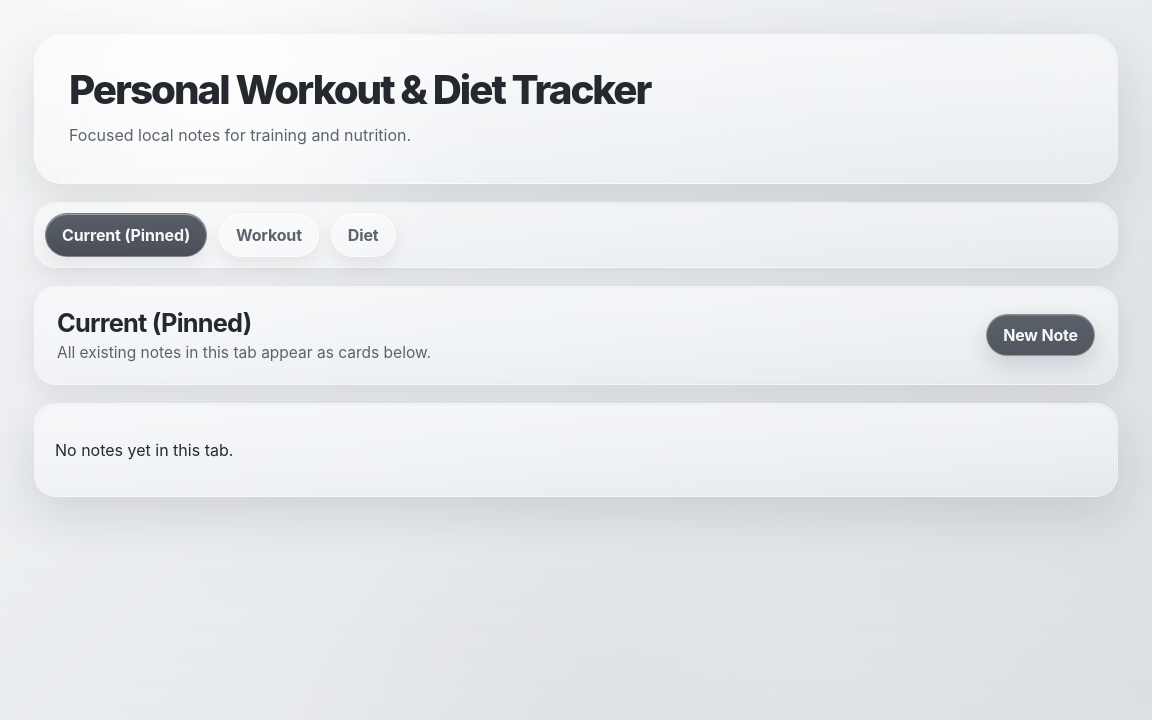
Test case: NotesApp › creates a note and shows success feedback
Click the button "Workout" at {"x": 269, "y": 234}, box [219,212,319,256]
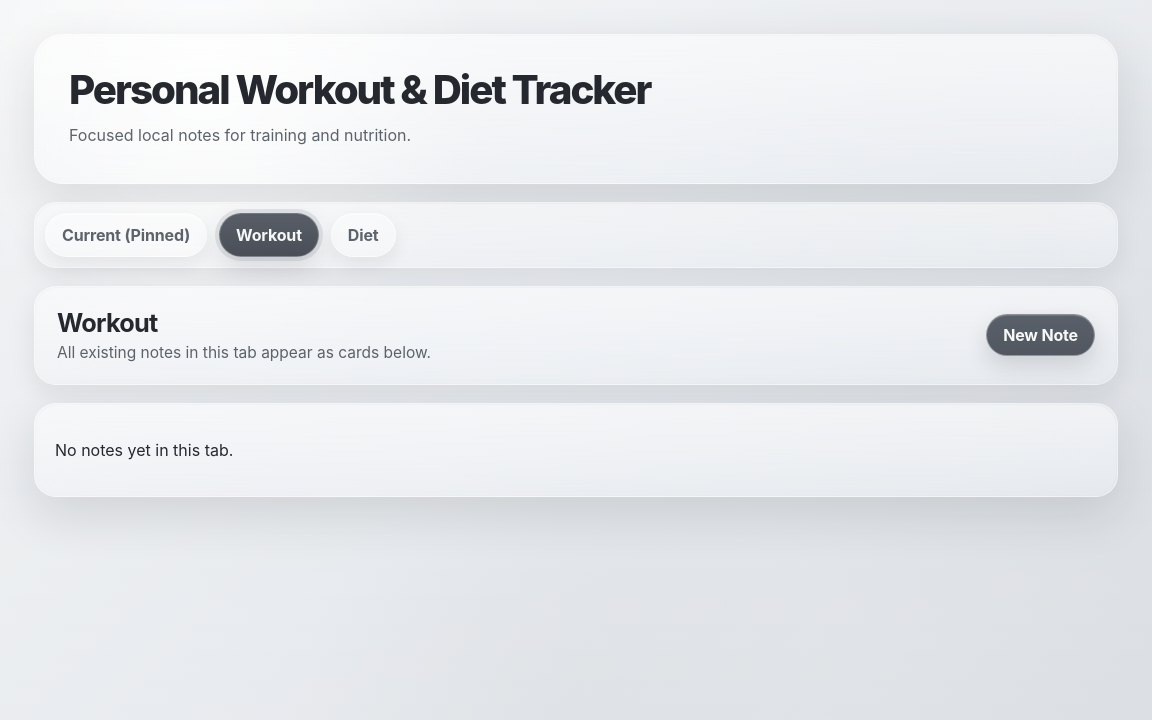
Click the button "New Note" at {"x": 1041, "y": 335}, box [986,314,1095,356]
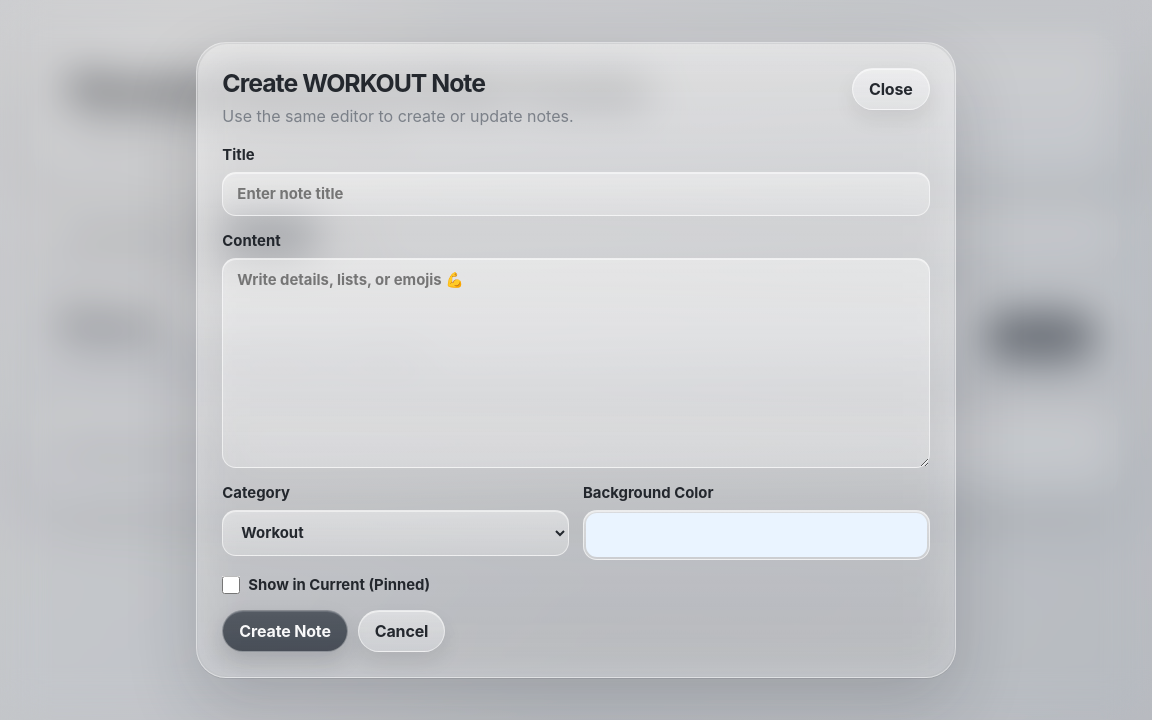
Type "Workout draft" into the field with placeholder "Enter note title" at {"x": 576, "y": 194}, box [222,172,930,216]
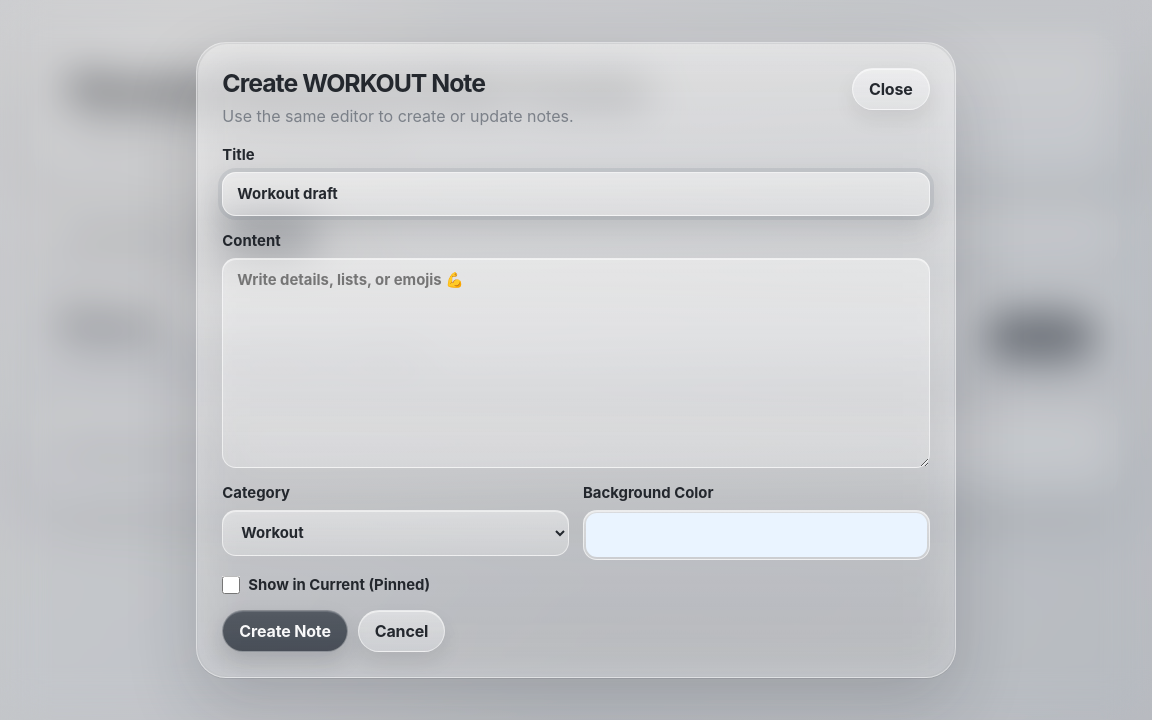
Type "Squats" into the text box with placeholder "Write details, lists, or emojis 💪" at {"x": 576, "y": 363}, box [222,258,930,468]
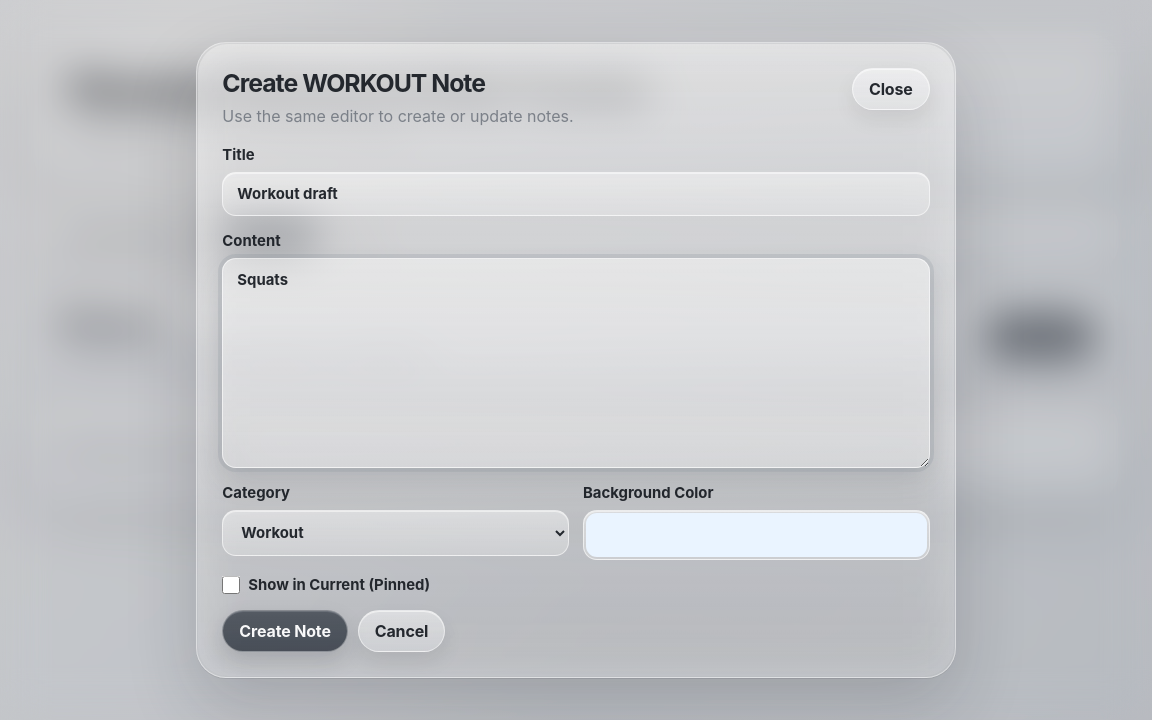
Click the button "Create Note" at {"x": 285, "y": 631}, box [222,610,348,652]
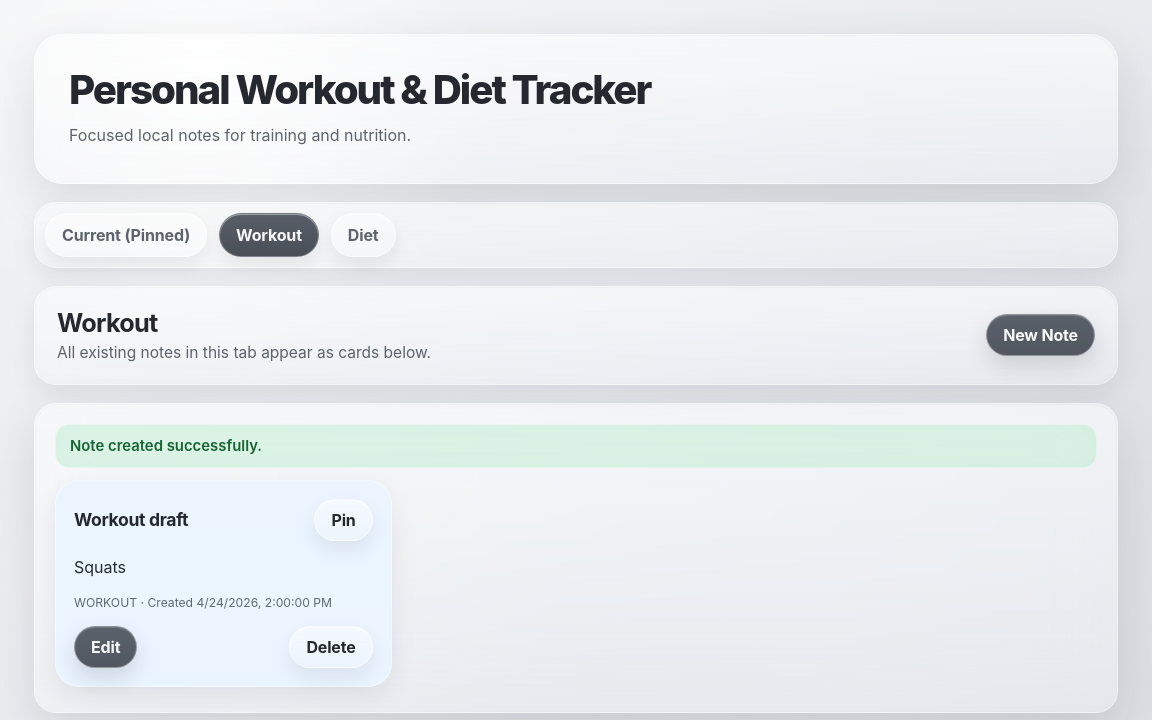
Expected: the text "Note created successfully." is shown, [55,424,1097,468]
Expected: the heading "Workout draft" is shown, [74,509,188,530]
